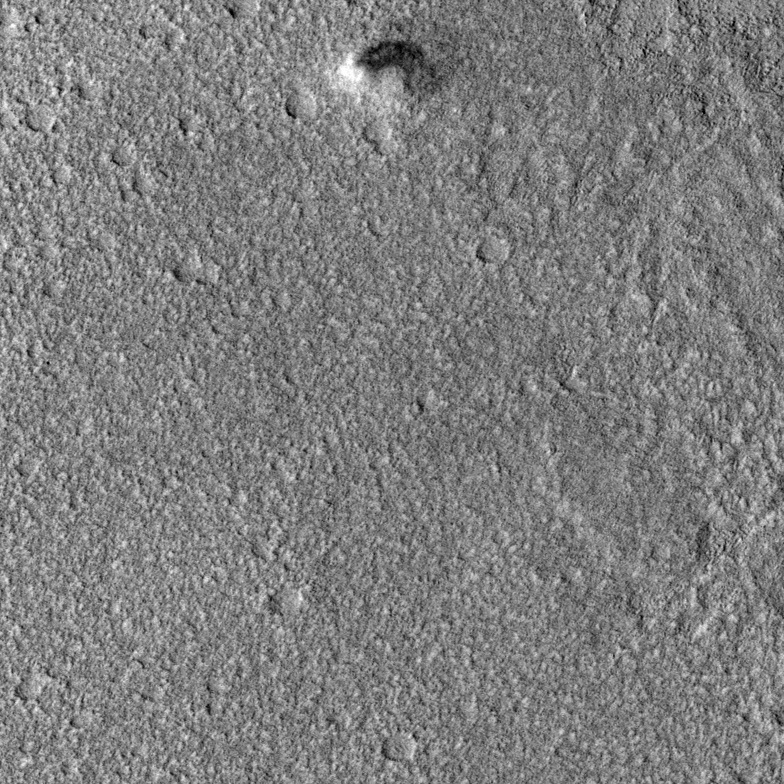dust_devil: (333, 38, 439, 110)
